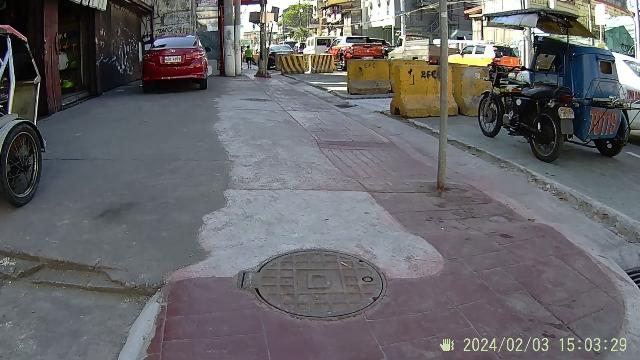car: (138, 30, 214, 90)
construction_materials: (342, 56, 460, 116), (277, 48, 337, 76)
tricycle: (474, 6, 634, 162)
utility_post: (436, 1, 454, 199), (220, 0, 246, 80)
